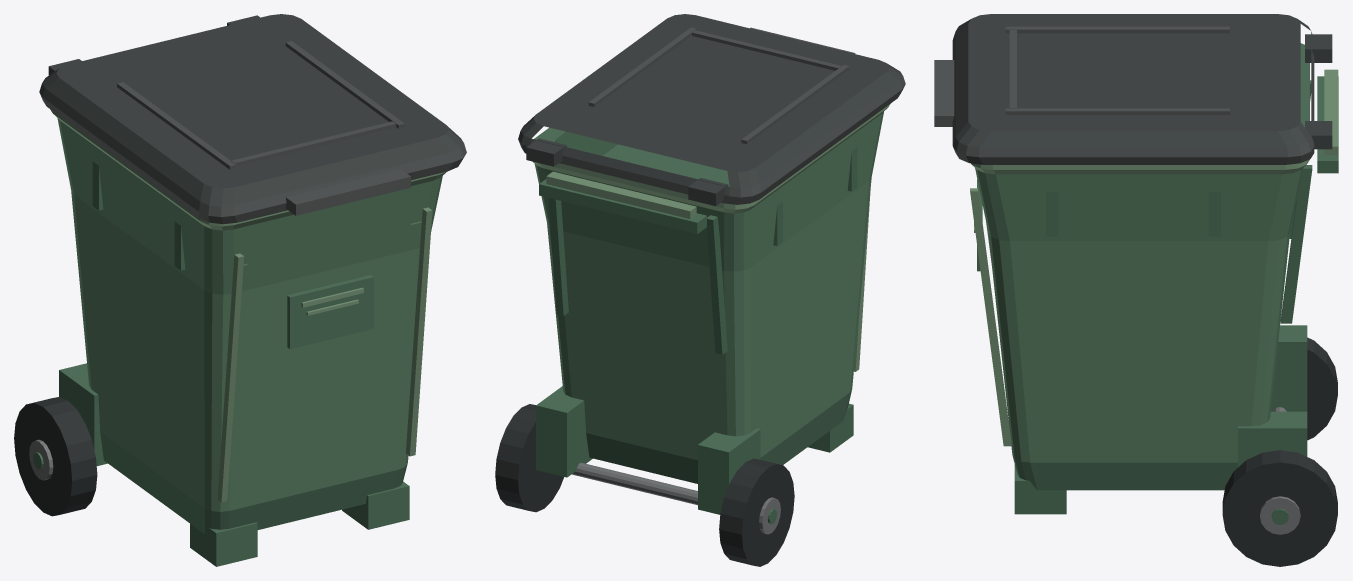
Rendered from WheelieBin001.glb.
3 views of the same model, side by side, from view 1: azimuth 30°, elevation 25°; view 2: azimuth 150°, elevation 25°; view 3: azimuth 270°, elevation 25° (orthographic). The views are drawn at different scales.
Parts seen in each view (by area): view 1: body_Body, lid_LidShell, body_ShadowPanels, lid_LidEdges, body_MouldedEdges, body_Tires, body_HubsAndAxle; view 2: body_Body, lid_LidShell, body_ShadowPanels, body_Tires, lid_LidEdges, body_MouldedEdges, body_HubsAndAxle, lid_LidHingeDetails; view 3: body_Body, lid_LidShell, body_ShadowPanels, lid_LidEdges, body_Tires, body_MouldedEdges, lid_LidHingeDetails, body_HubsAndAxle.
Boxes of the visible parts, bbox=[...] form: body_Body: bbox=[57, 118, 442, 511]; lid_LidShell: bbox=[42, 14, 463, 206]; body_ShadowPanels: bbox=[33, 161, 409, 566]; lid_LidEdges: bbox=[39, 41, 466, 224]; body_MouldedEdges: bbox=[50, 109, 447, 502]; body_Tires: bbox=[14, 397, 97, 516]; body_HubsAndAxle: bbox=[29, 439, 53, 480]; body_Body: bbox=[534, 112, 883, 460]; lid_LidShell: bbox=[520, 14, 902, 188]; body_ShadowPanels: bbox=[534, 127, 857, 524]; body_Tires: bbox=[495, 404, 794, 566]; lid_LidEdges: bbox=[518, 27, 905, 204]; body_MouldedEdges: bbox=[533, 103, 890, 371]; body_HubsAndAxle: bbox=[572, 462, 780, 534]; lid_LidHingeDetails: bbox=[526, 138, 728, 205]; body_Body: bbox=[975, 168, 1303, 462]; lid_LidShell: bbox=[955, 14, 1311, 147]; body_ShadowPanels: bbox=[977, 43, 1338, 524]; lid_LidEdges: bbox=[934, 26, 1314, 164]; body_Tires: bbox=[1222, 337, 1337, 566]; body_MouldedEdges: bbox=[970, 63, 1338, 446]; lid_LidHingeDetails: bbox=[1305, 34, 1332, 149]; body_HubsAndAxle: bbox=[1260, 407, 1300, 534].
Bounding box in the file's own units: 0.686 × 1.01 × 0.8545.
